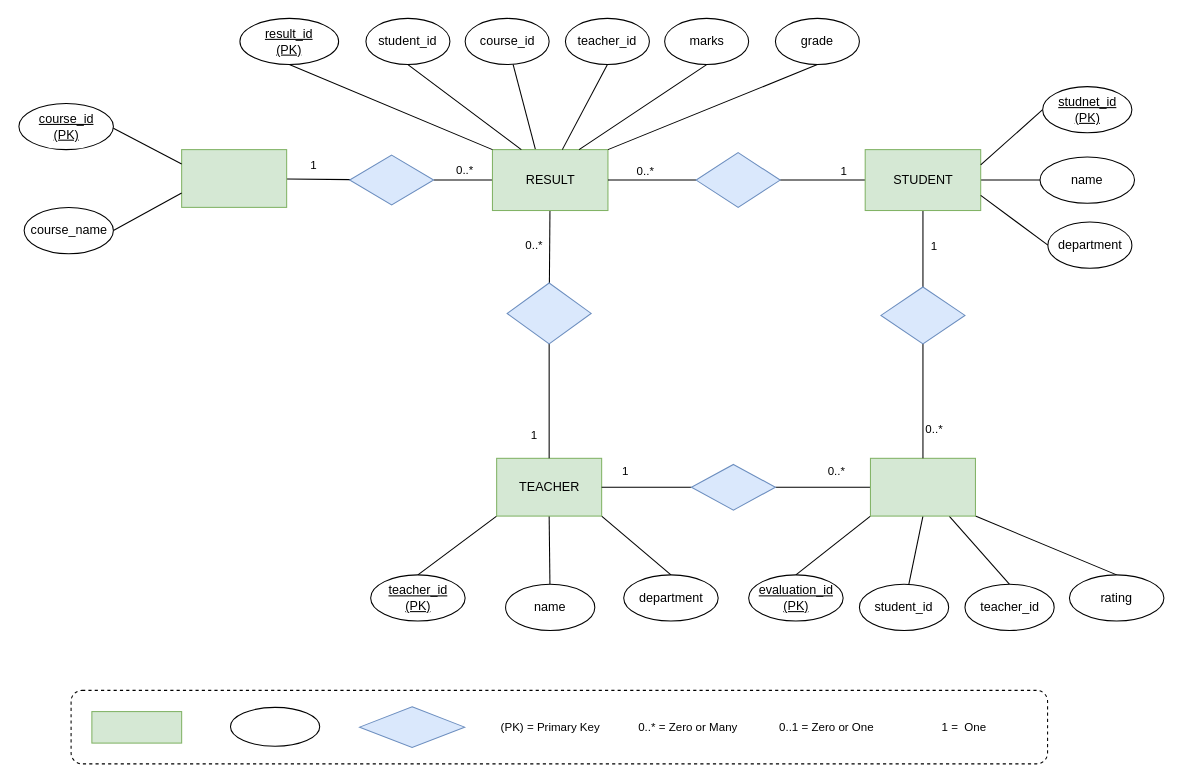
Image size: 1182x782. Some labels were removed from this diagram. Here are the shapes that lost their labels. From the top down, the box of each, then its label:
(181, 149, 287, 207): COURSE
(349, 154, 434, 205): has
(695, 152, 780, 207): receives
(506, 282, 591, 344): sumbits
(880, 286, 965, 344): gives
(690, 463, 775, 510): gets
(869, 457, 975, 516): EVALUATION
(91, 711, 182, 743): Entity
(229, 706, 320, 746): attribute
(359, 706, 465, 747): relationship
